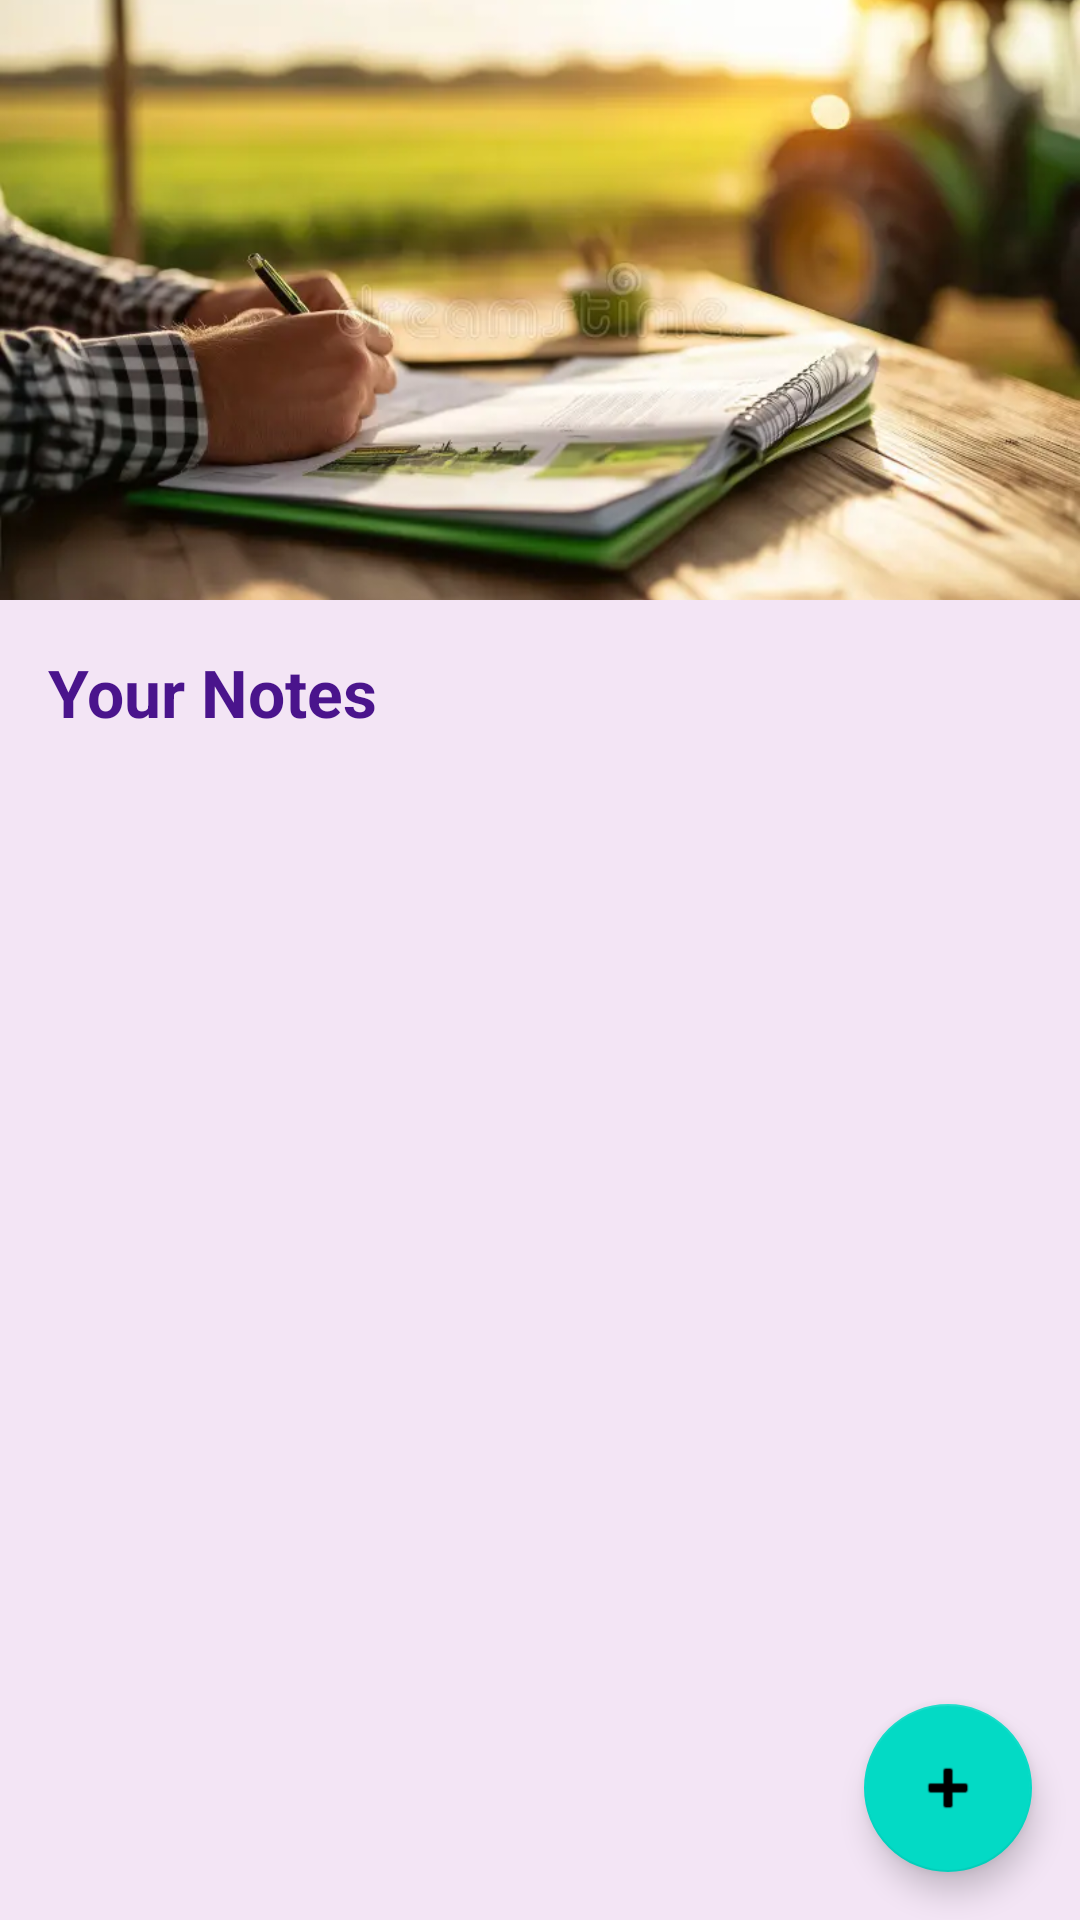

Icon click points for this 1080x1920 phone screenshot, format (x,y):
Add Note: (948,1788)
